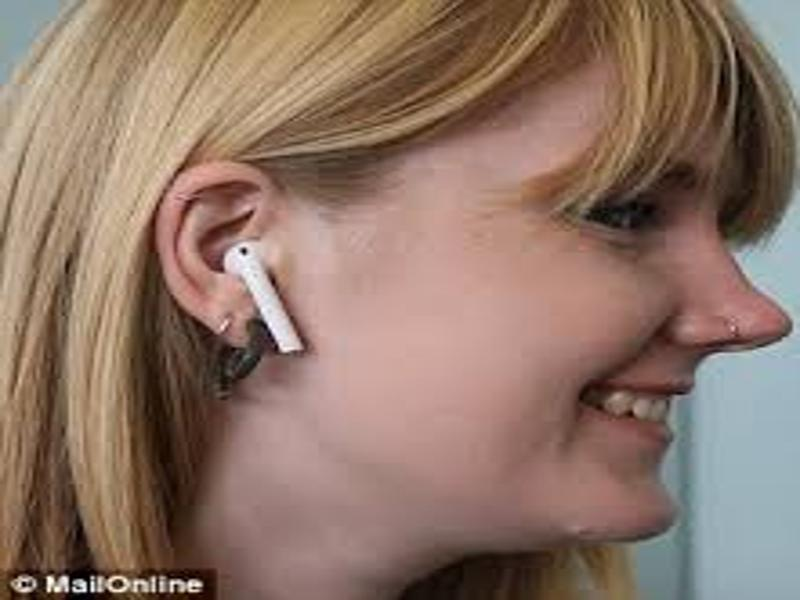headphone: (223, 234, 309, 355)
